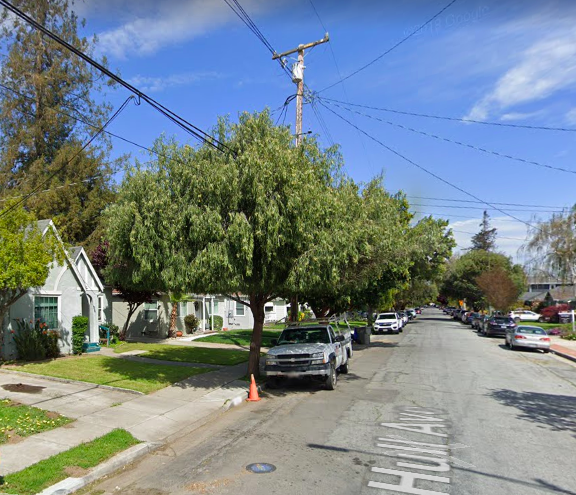tree: (98, 102, 399, 402)
